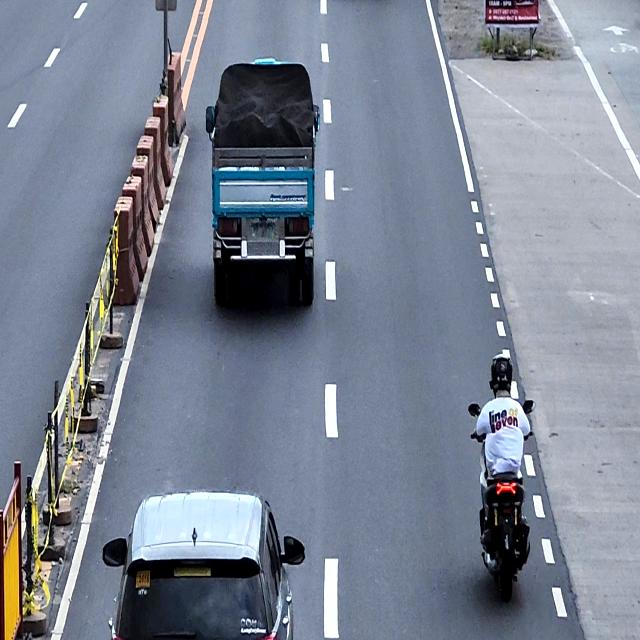Car: (102, 490, 305, 639)
Motorcycle: (468, 398, 536, 602)
Truck: (205, 57, 320, 307)
